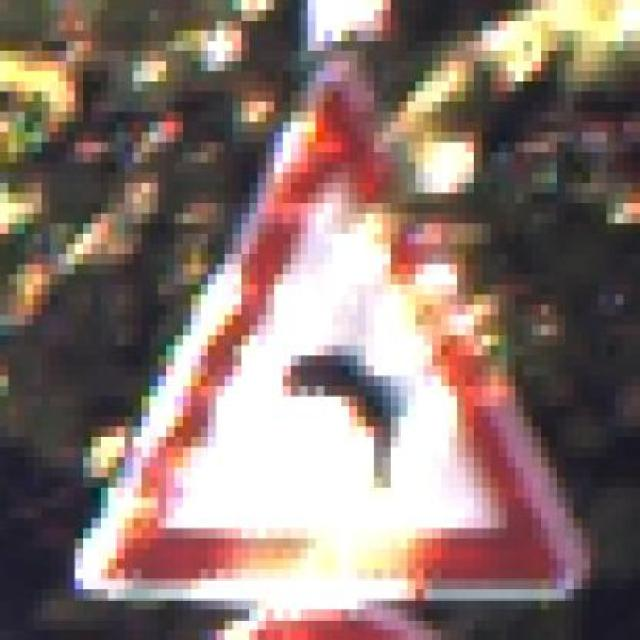Dangerous Left Curve Ahead: (75, 61, 582, 610)
